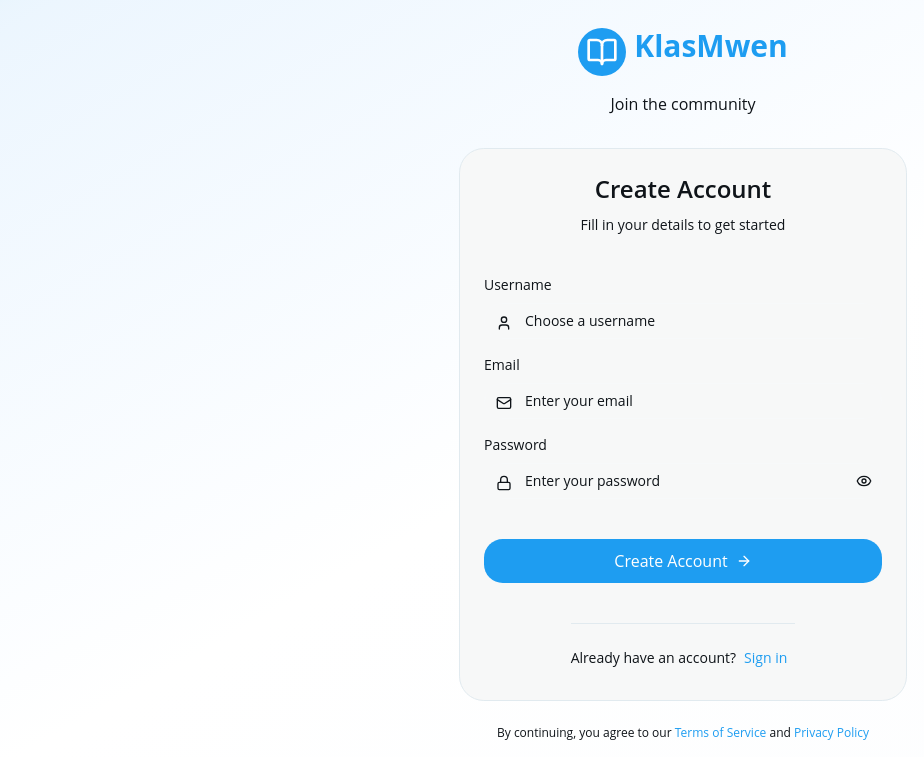
Test: AuthForm component › Sign Up Flow › should show loading state during sign up
Type "newuser" into the field labelled "Username" at (683, 320), box top-left (484, 302), bottom-right (882, 338)
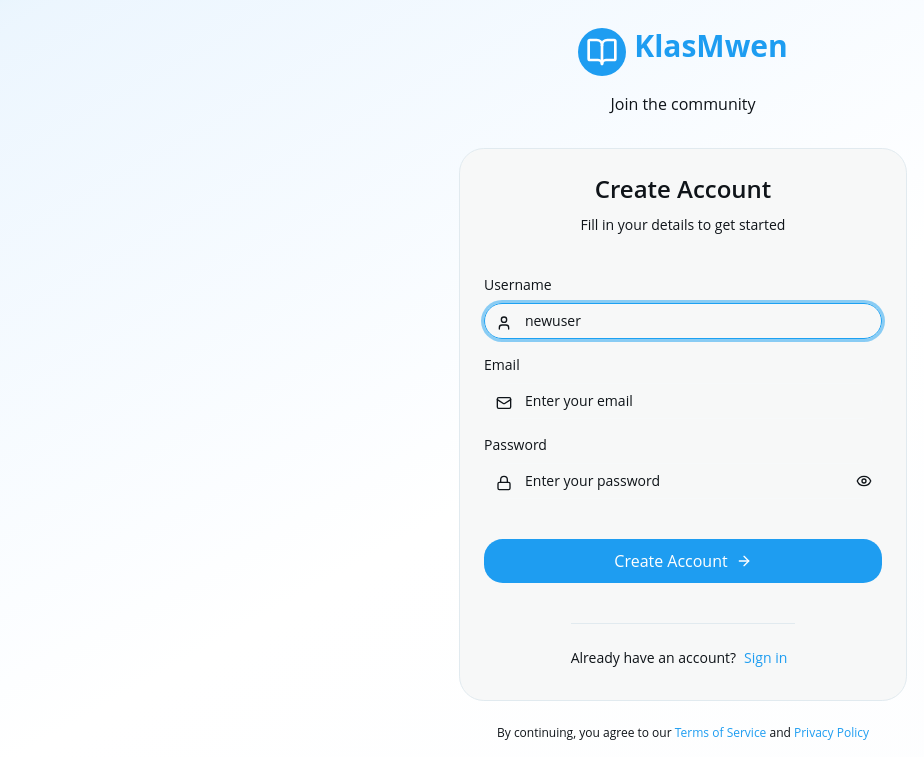
Type "new@example.com" into the field labelled "Email" at (683, 400), box top-left (484, 382), bottom-right (882, 418)
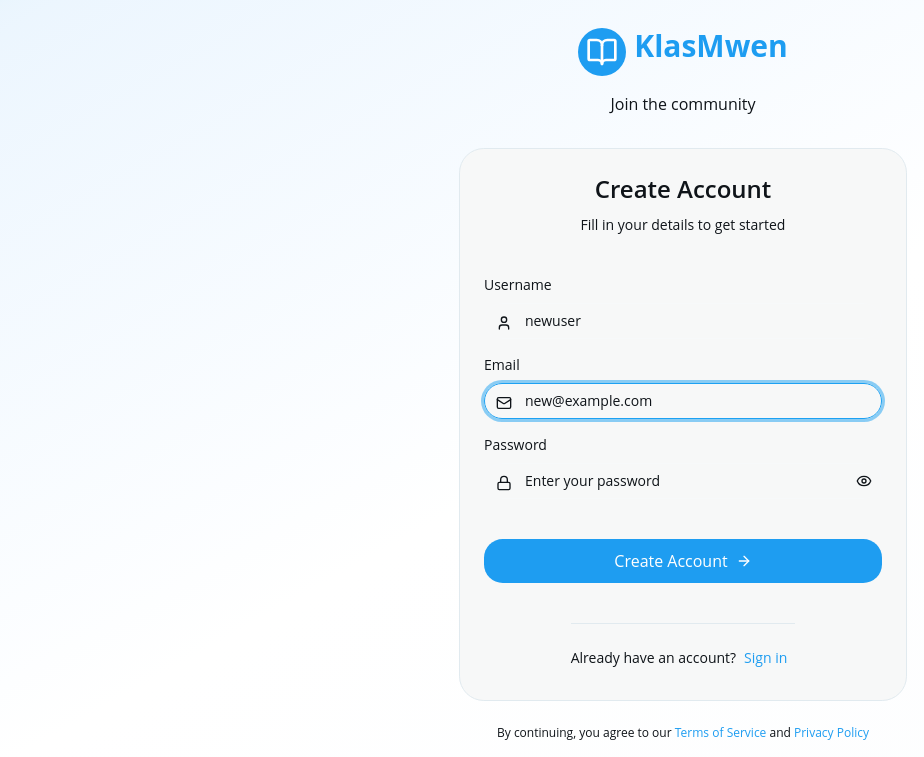
Type "ValidPass123" into the password field labelled "Password" at (683, 480), box top-left (484, 462), bottom-right (882, 498)
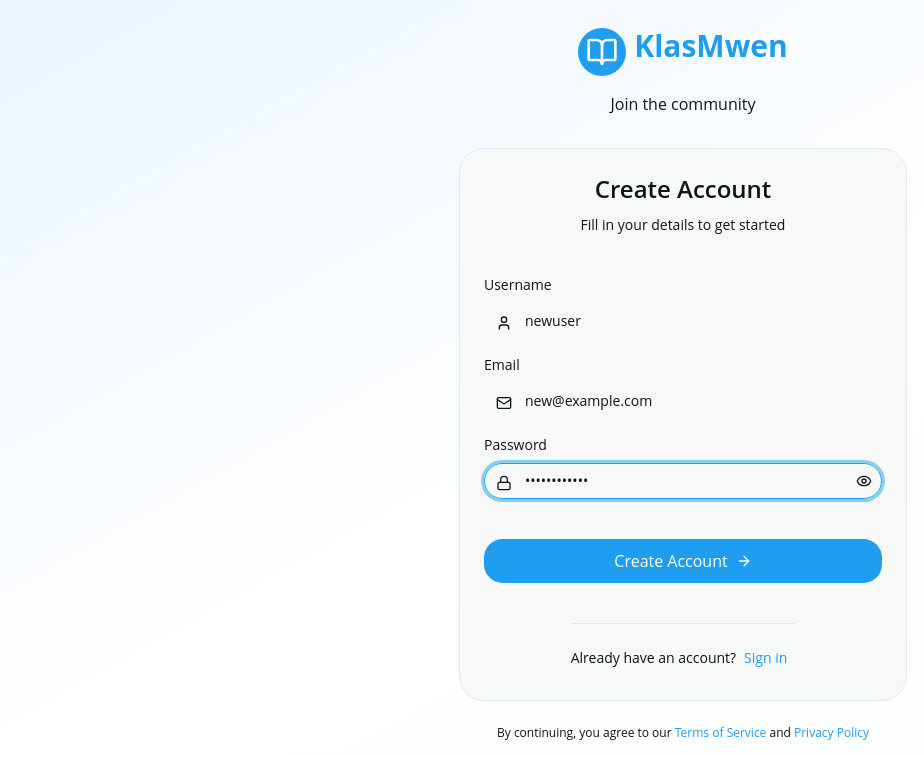
Click the button "Create Account" at (683, 560), box top-left (484, 538), bottom-right (882, 582)
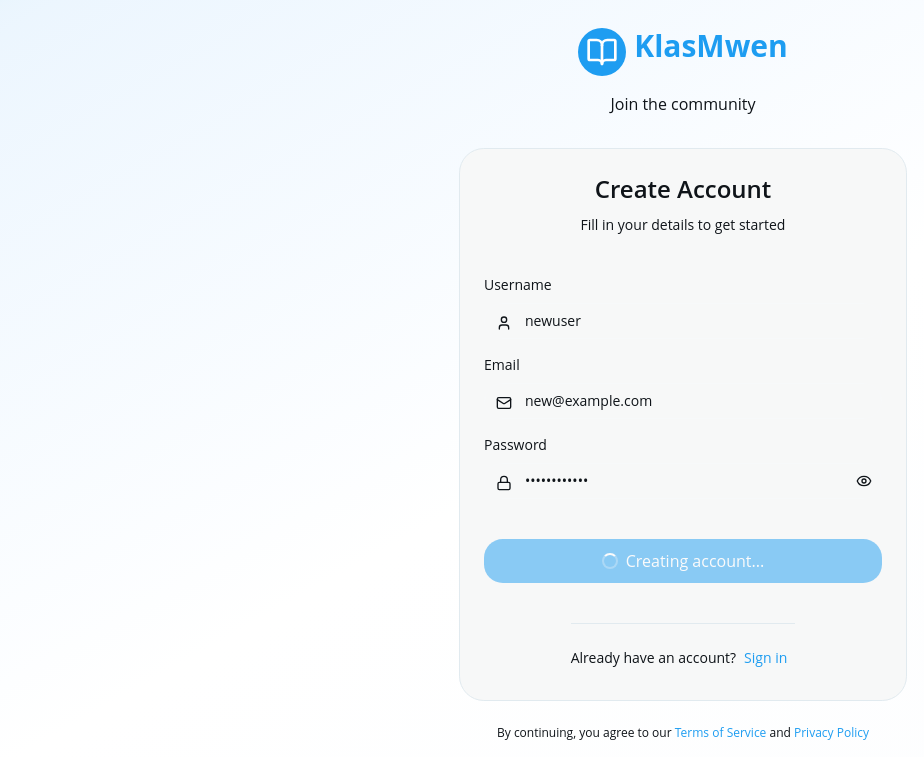
Expected: the text "Creating account..." is shown, top-left (602, 548), bottom-right (764, 572)
Expected: the button "Creating account..." is disabled, top-left (484, 538), bottom-right (882, 582)
